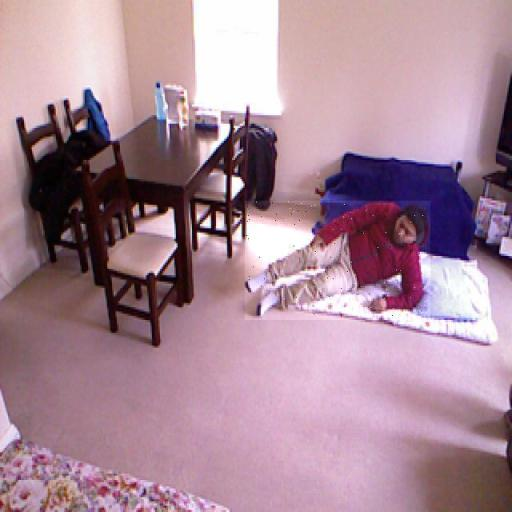Fall: (245, 201, 430, 320)
